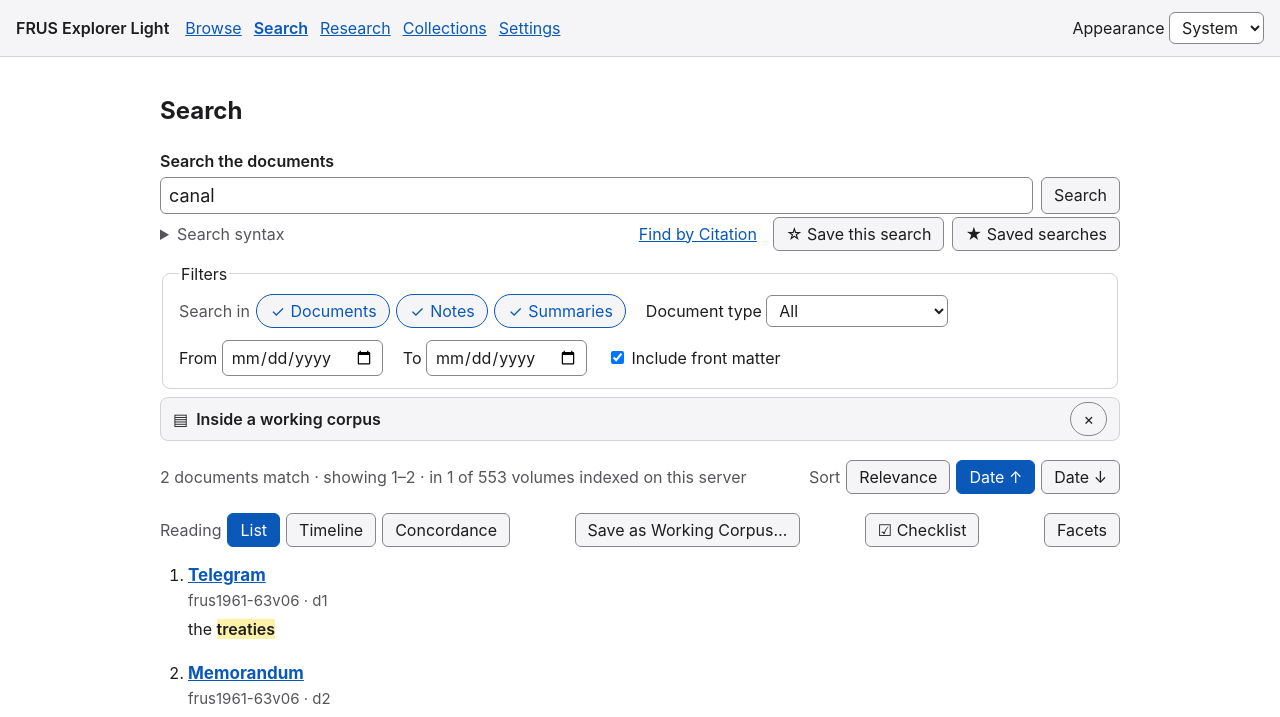
it: saved searches in Search › lists the saved searches, says what each run has gained, and recalls one inside the corpus applied, stamping its run
The image size is (1280, 717).
Step 1. Click the button "★ Saved searches" → coordinates (1036, 234), box [952,217,1120,251]
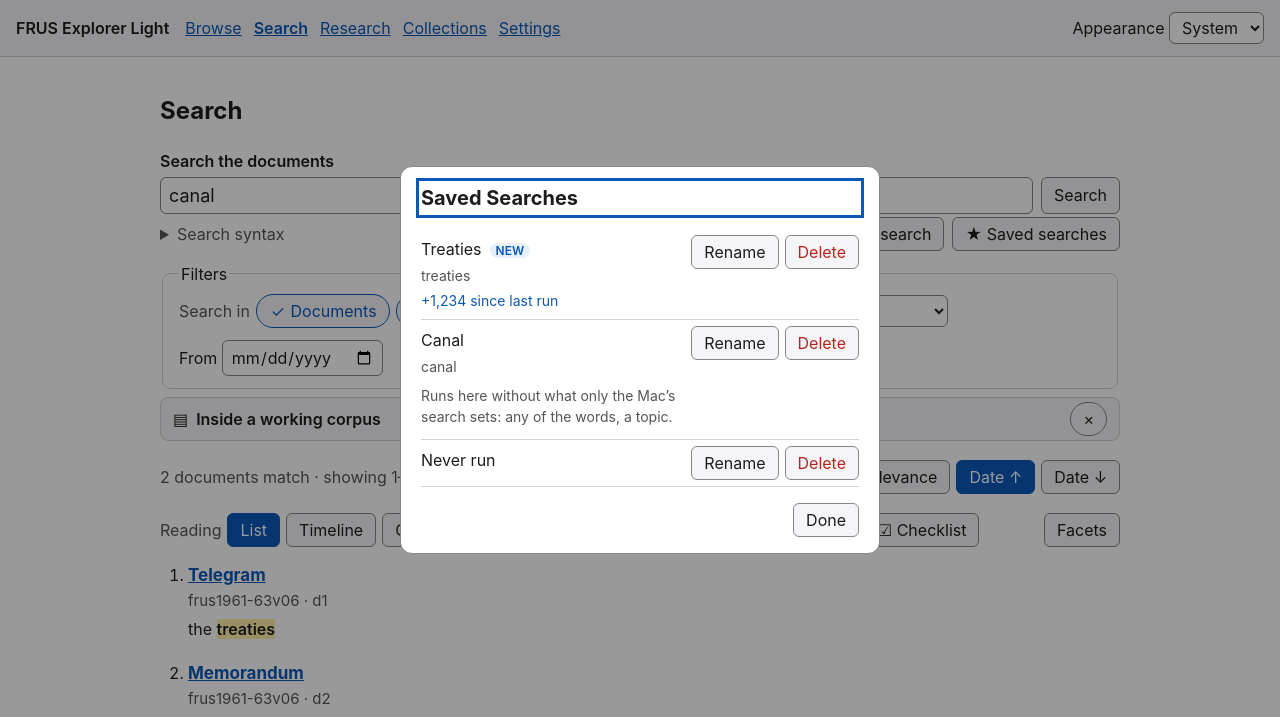
Expected: the text "+1,234 since last run" is shown, [421,290,558,311]
Expected: the text "NEW" is shown, [490,243,530,258]
Expected: the text "Runs here without what only the Mac’s search sets: any of the words, a topic." is shown, [421,385,683,427]
Step 2. Click the button "Treaties" → coordinates (451, 249), box [421,235,683,313]
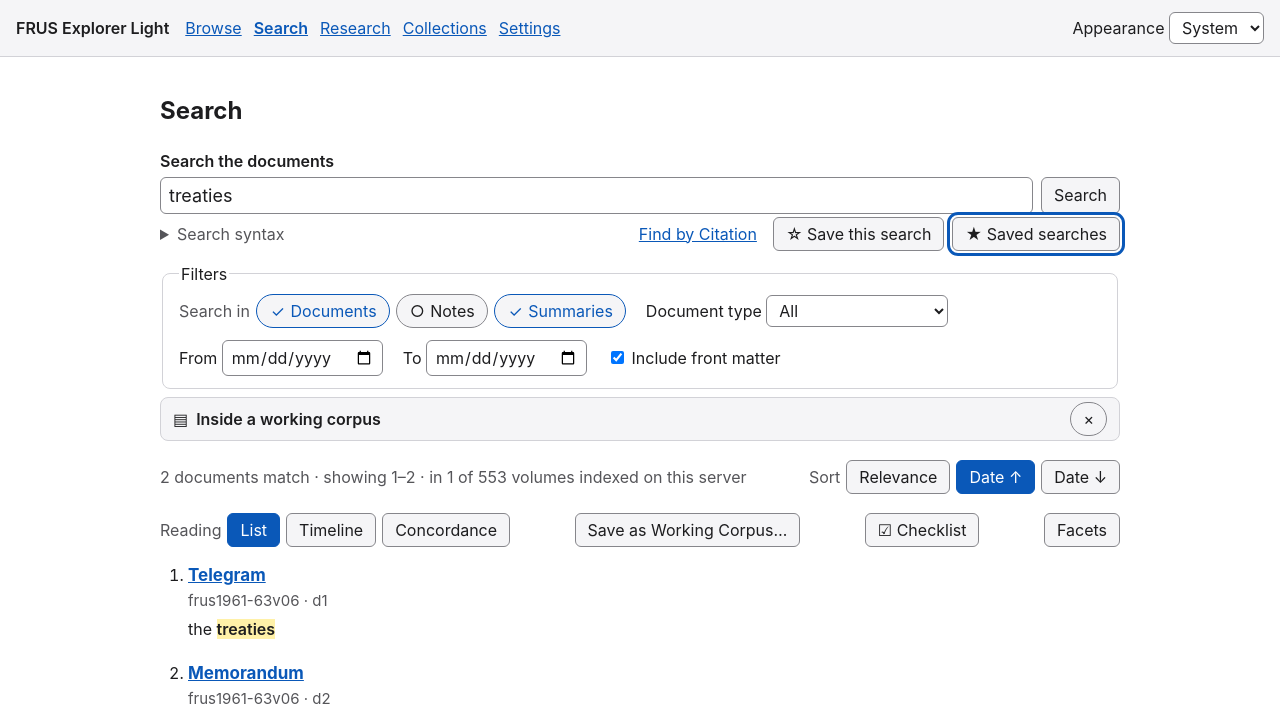
Expected: the dialog is gone
